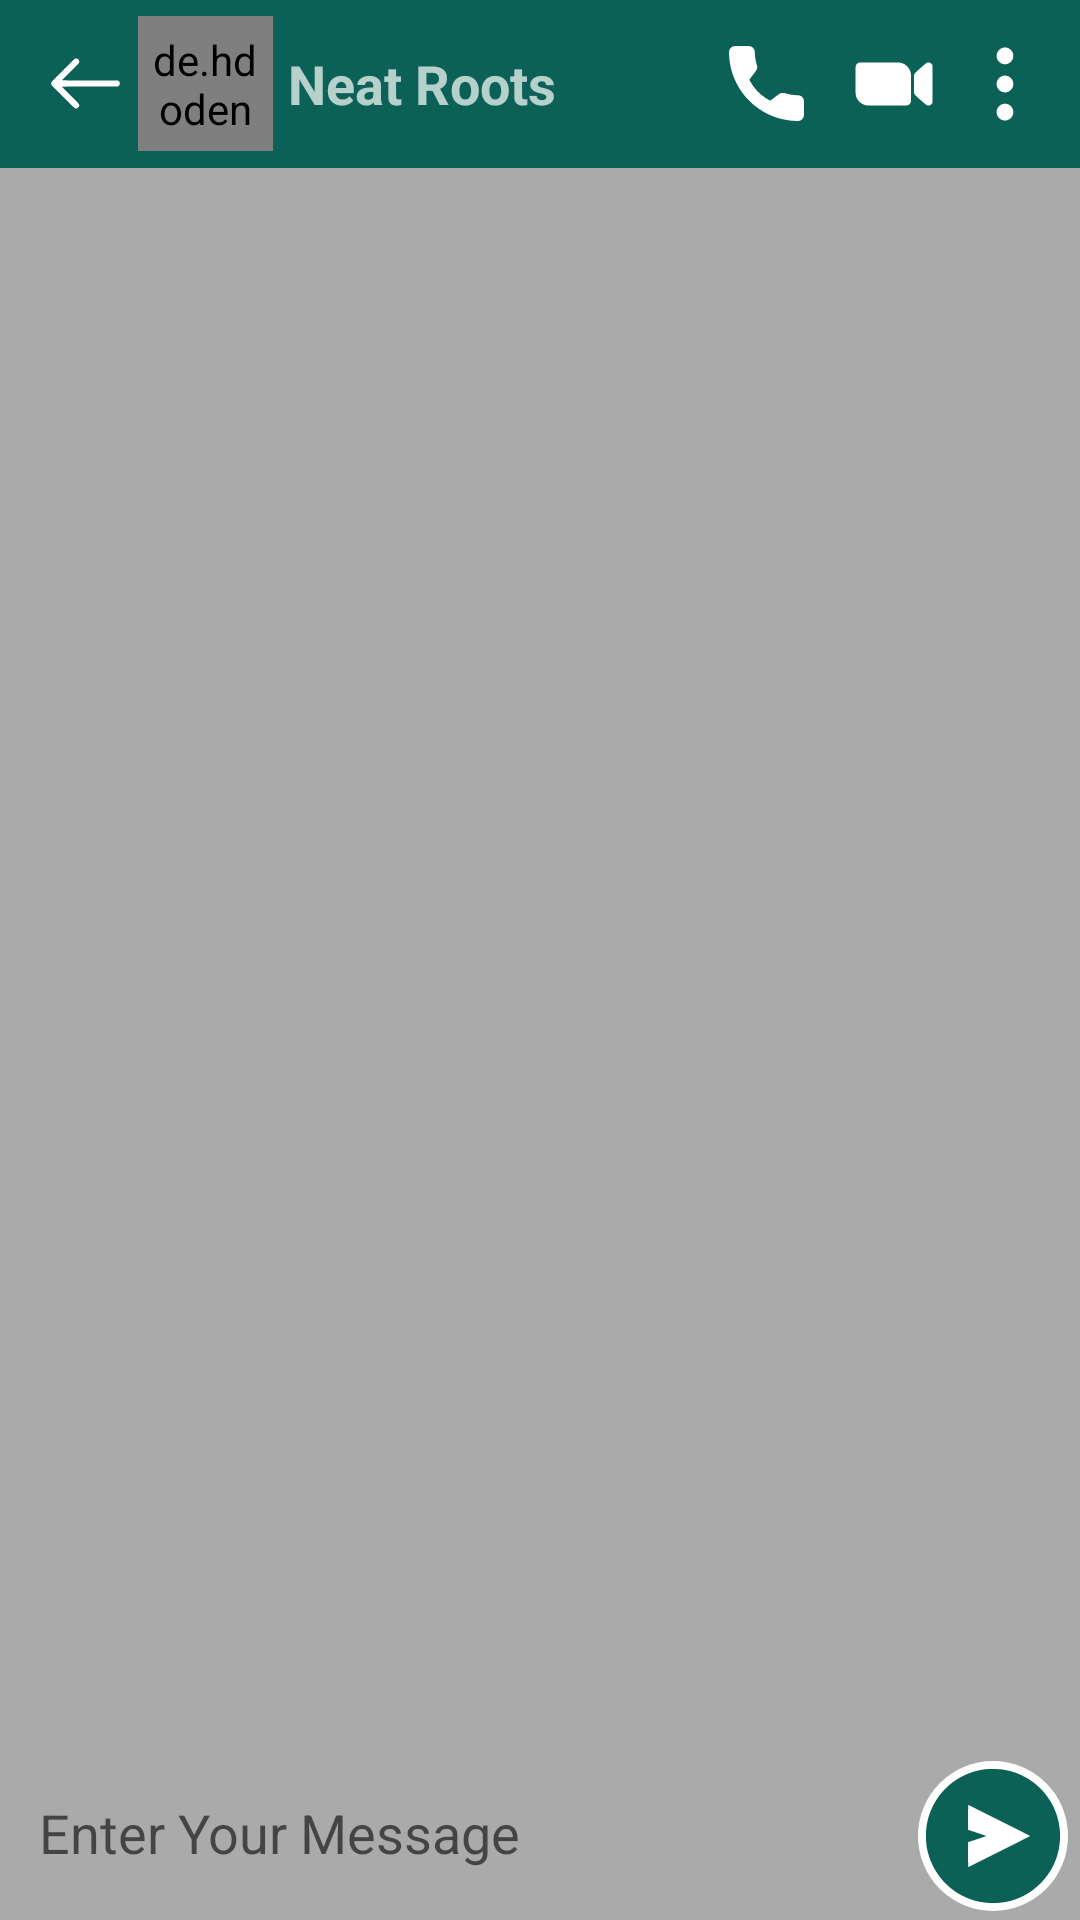

Icons on this 1080*1920 Android screen, each with its box as (x1, y1, x2, y2):
backbtn: (51, 58, 120, 109)
call: (729, 46, 804, 121)
dots: (996, 47, 1014, 121)
newsend: (918, 1761, 1068, 1911)
vediobtn: (855, 62, 933, 106)
